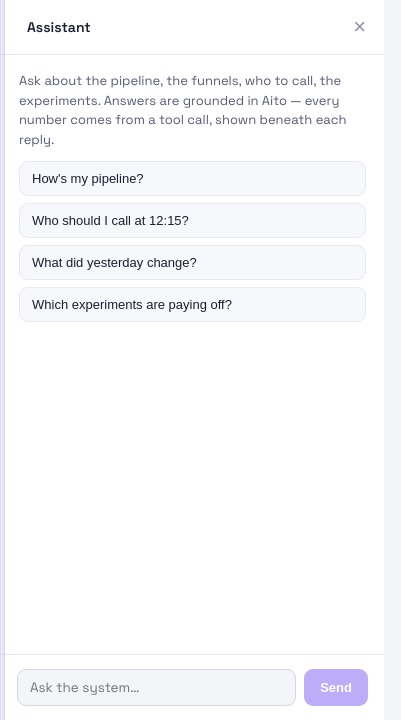
it: Assistant chat panel › Stop cancels an in-flight request and keeps the question
Type "slow one" into the field with placeholder "Ask the system…".
click(157, 688); type("slow one")  # box [17,669,296,706]
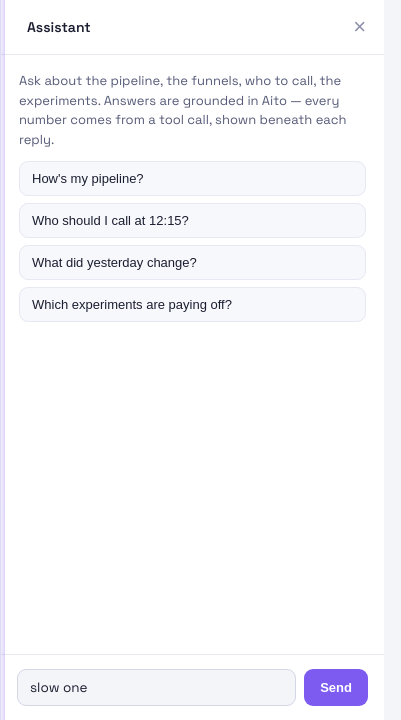
Click the button "Send".
click(336, 688)  # box [304,669,368,706]
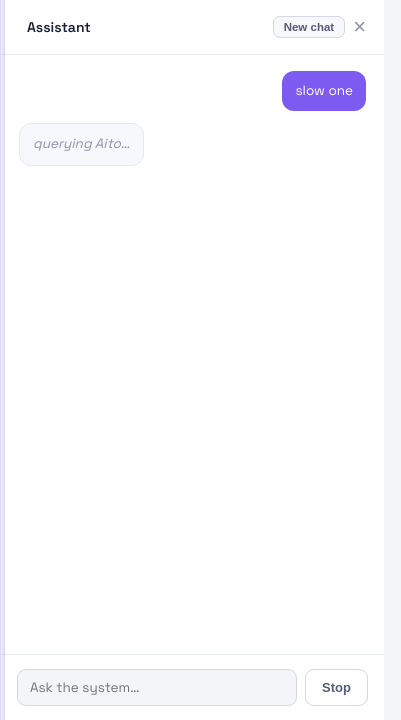
Check: the text "querying Aito…" is shown, box [33,135,130,152]
Click the button "Stop".
click(337, 688)  # box [305,669,368,706]
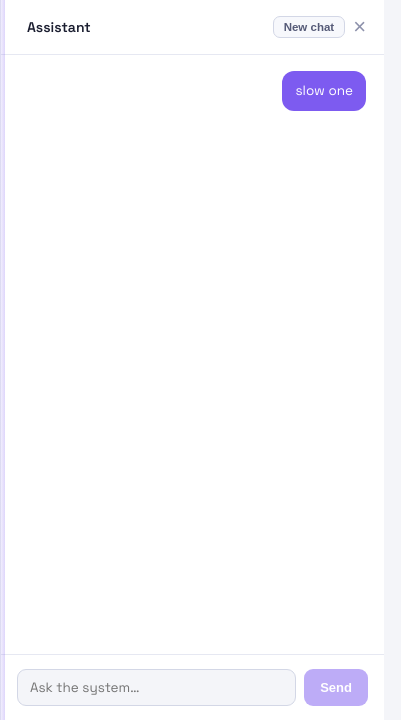
Check: the text "slow one" is shown, box [282,71,366,111]
Check: the text "querying Aito" is gone
Check: the button "Send" is shown, box [304,669,368,706]
